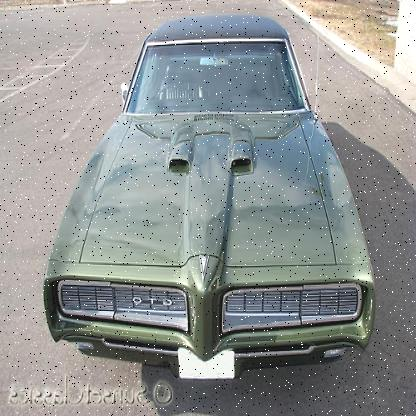car: (37, 8, 383, 374)
